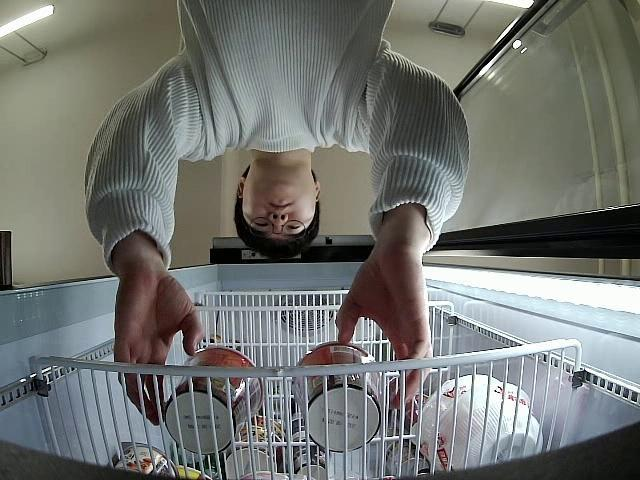02_shinRamen_S: (164, 344, 262, 454), (290, 343, 388, 453)
